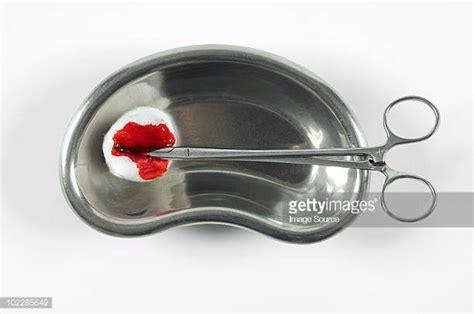cotton: (104, 101, 184, 191)
scissors: (143, 93, 443, 222)
